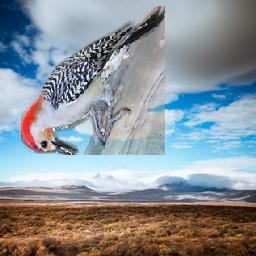Woodpecker: (21, 7, 165, 156)
